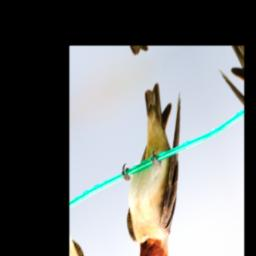Swallow: (92, 72, 221, 256)
